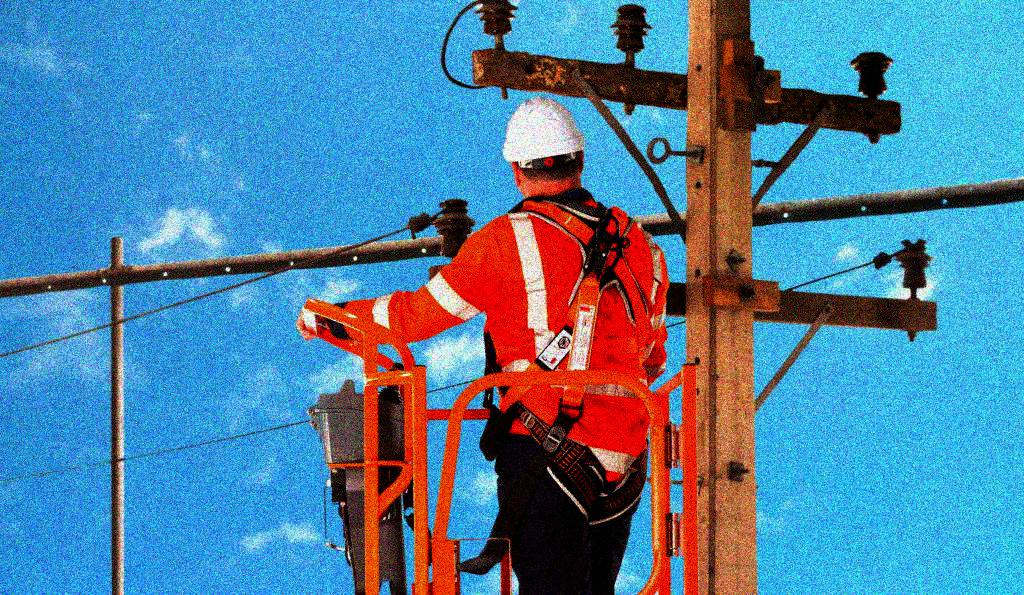helmet: (500, 95, 592, 200)
